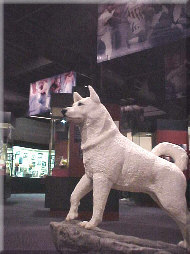dog: (61, 82, 189, 251)
